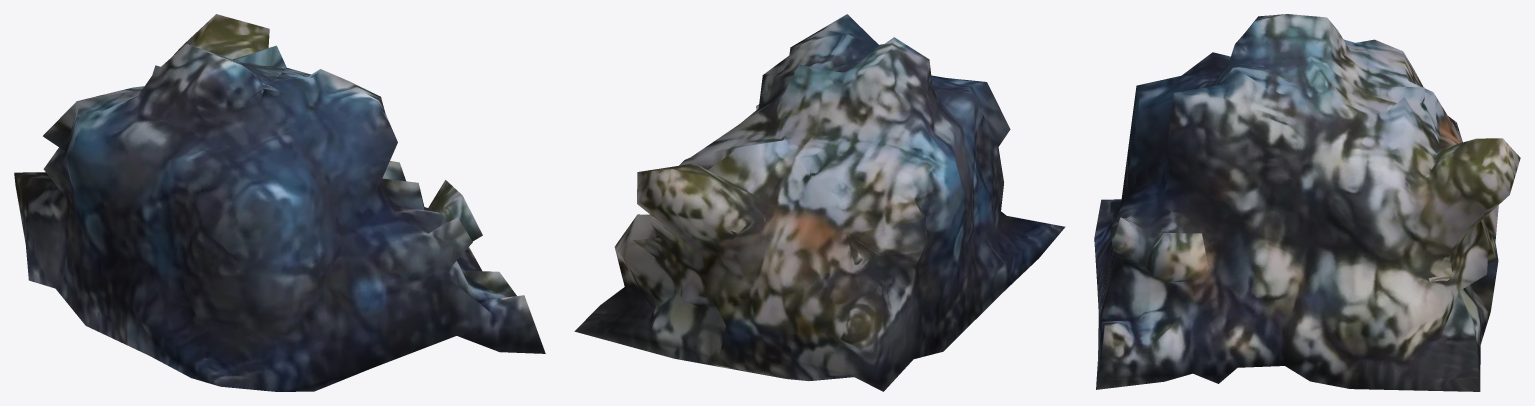
Rendered from oceanRubble1-transformed.glb.
The picture shows the model from 3 angles, left to right: view 1: azimuth 30°, elevation 25°; view 2: azimuth 150°, elevation 25°; view 3: azimuth 270°, elevation 25°; orthographic projection. The views are drawn at different scales.
Parts seen in each view (by area): view 1: mesh; view 2: mesh; view 3: mesh.
Part boxes in pixels (x1,y1,x2,y2): mesh: (14, 14, 545, 391); mesh: (574, 14, 1065, 391); mesh: (1094, 14, 1520, 391).
Bounding box in the file's own units: 0.8856 × 0.709 × 1.01.
1 material, 1 textured.
